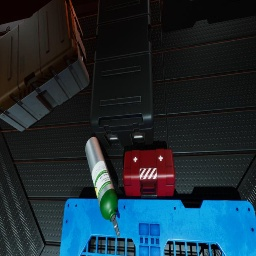0: (85, 137, 120, 238)
FirstAidBox ,: (123, 148, 175, 198)
